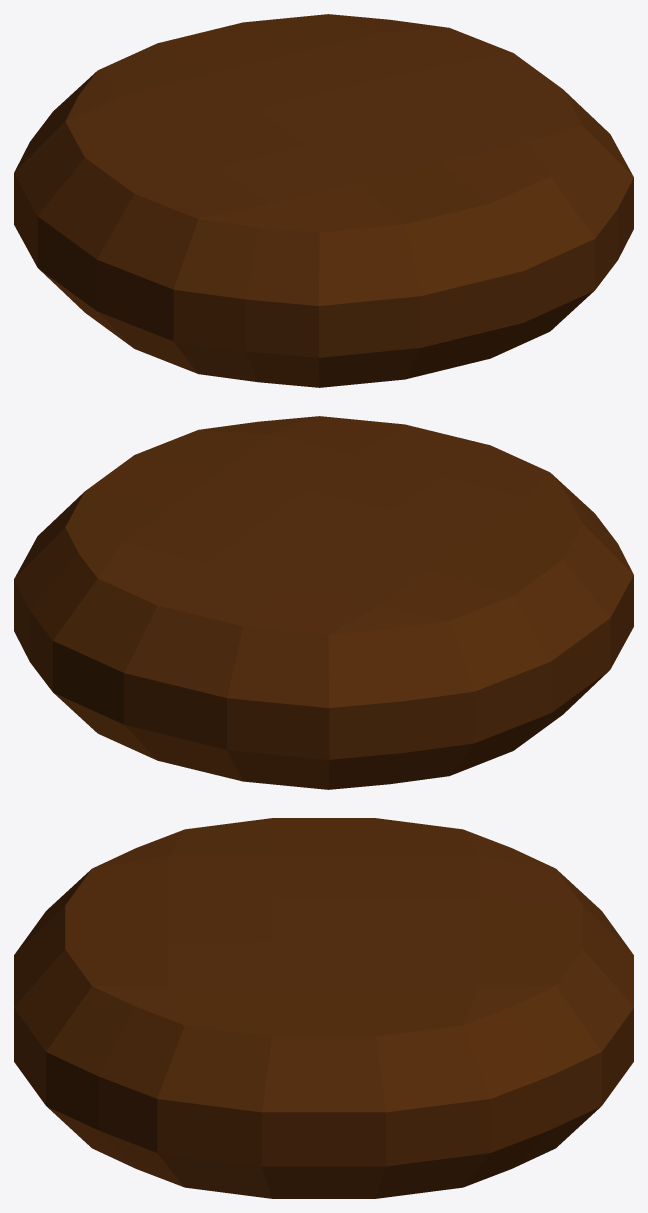
Rendered from CookedMincedMeat.fbx.
The picture shows the model from 3 angles, top to bottom: view 1: azimuth 30°, elevation 25°; view 2: azimuth 150°, elevation 25°; view 3: azimuth 270°, elevation 25°; orthographic projection. The views are drawn at different scales.
Visible parts, largest first — view 1: Cube.001; view 2: Cube.001; view 3: Cube.001.
Boxes of the visible parts, x1,y1,x2,y2 form: Cube.001: (14, 14, 633, 387); Cube.001: (14, 416, 633, 789); Cube.001: (14, 818, 633, 1198).
Bounding box in the file's own units: 66.14 × 20.62 × 66.14.
